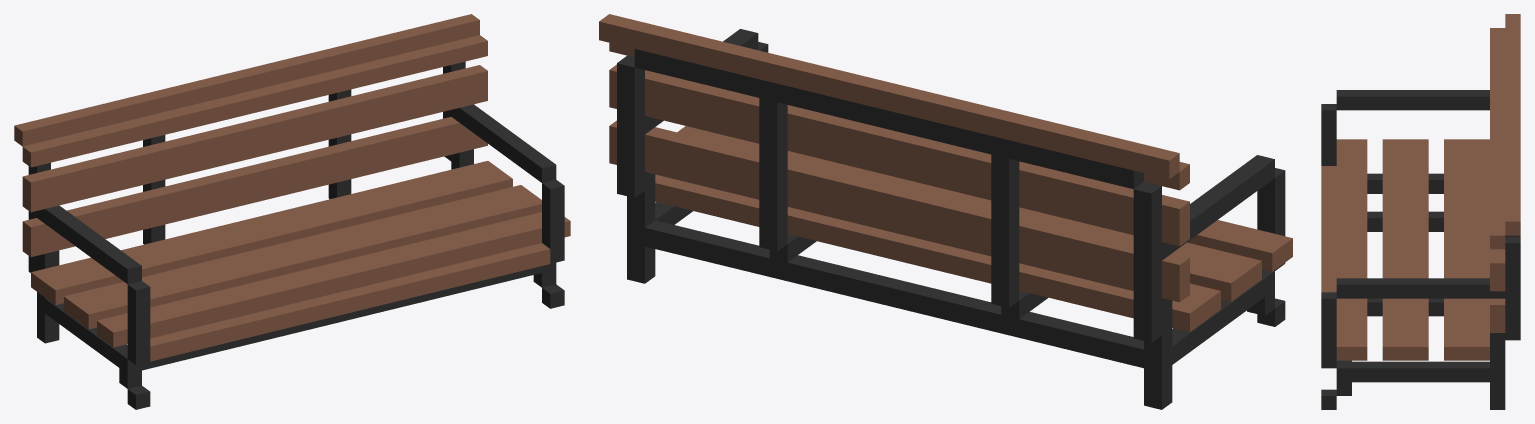
Rendered from 3D Voxel Park-108.obj.
3 renders of one model, left to right at view 1: azimuth 30°, elevation 25°; view 2: azimuth 150°, elevation 25°; view 3: azimuth 270°, elevation 25°, orthographic. The views are drawn at different scales.
Bounding box in the file's own units: 3.2 × 1.4 × 1.3.
Materials: 1 (1 with a texture image).
